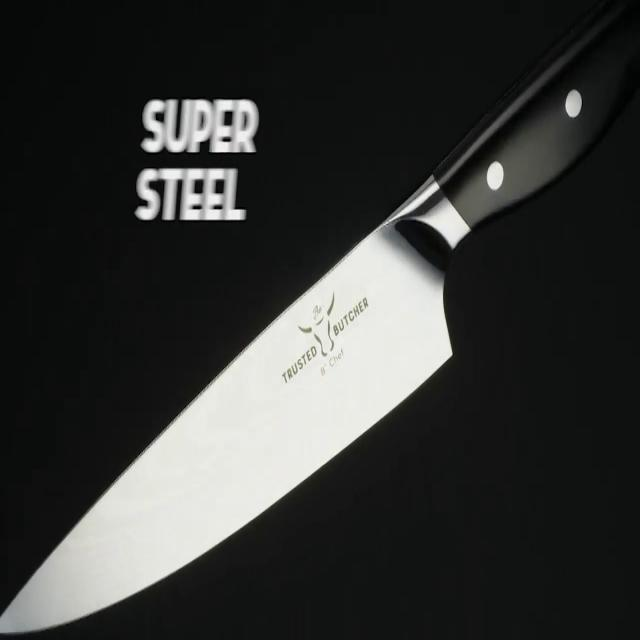Knife: (0, 196, 454, 633)
